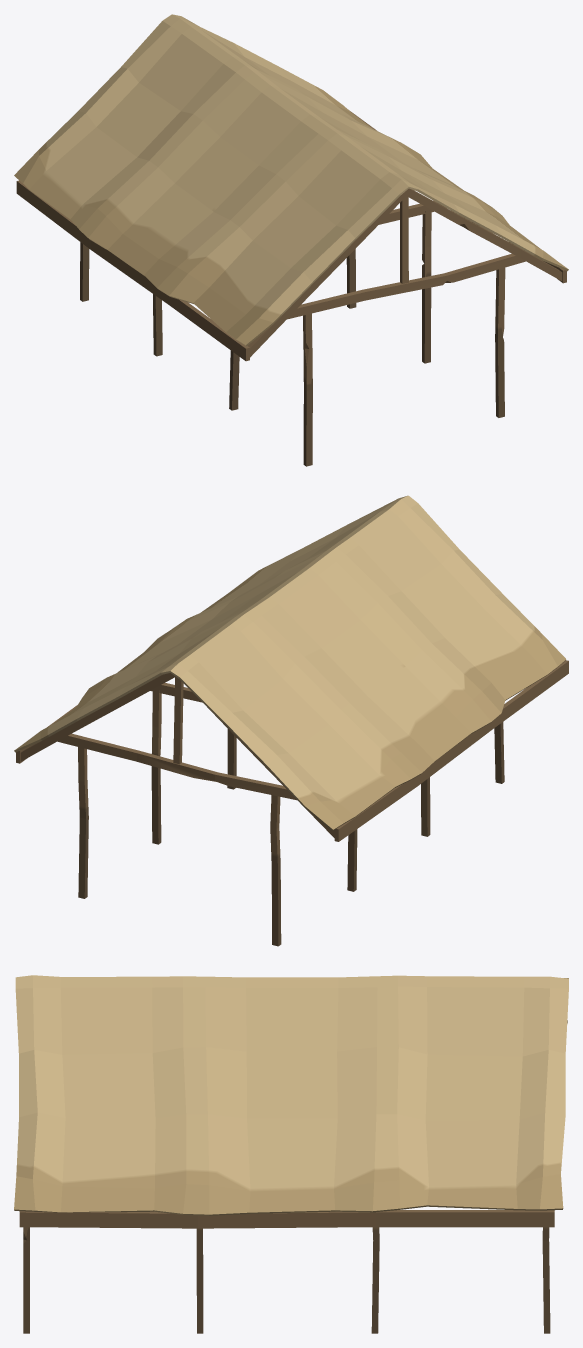
File: SM_Bld_Tent_Shelter_01.fbx
3 views of the same model, one above another, from view 1: azimuth 30°, elevation 25°; view 2: azimuth 150°, elevation 25°; view 3: azimuth 270°, elevation 25° (orthographic). The views are drawn at different scales.
Parts seen in each view (by area): view 1: SM_Bld_Tent_Shelter_01; view 2: SM_Bld_Tent_Shelter_01; view 3: SM_Bld_Tent_Shelter_01.
Part boxes in pixels (x1,y1,x2,y2): SM_Bld_Tent_Shelter_01: (14, 14, 568, 466); SM_Bld_Tent_Shelter_01: (14, 495, 568, 946); SM_Bld_Tent_Shelter_01: (14, 975, 568, 1333).
Bounding box in the file's own units: 778 × 580 × 960.
